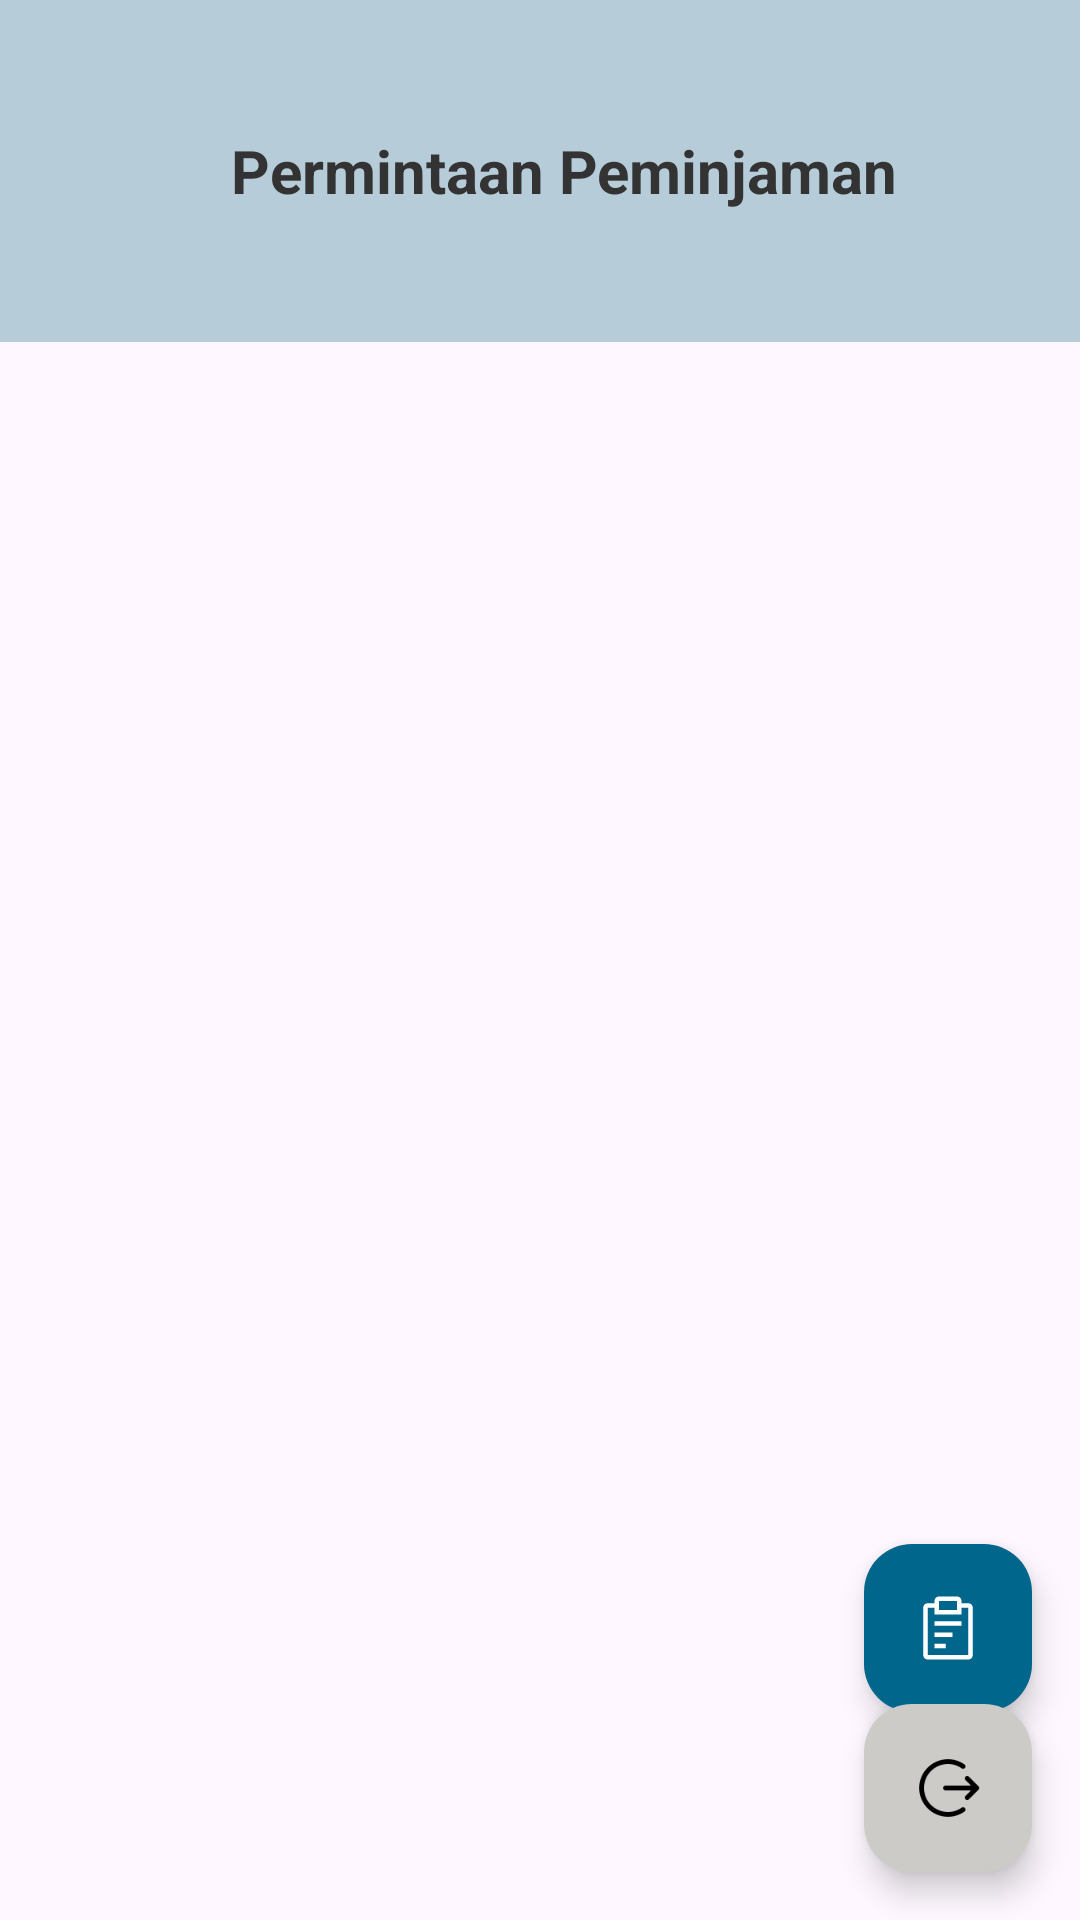

Icon bounding boxes for this 1080w x 1920h phone screenshot, format bbox=[x1, y1, x2, y2]:
report: bbox=[864, 1544, 1032, 1712]
